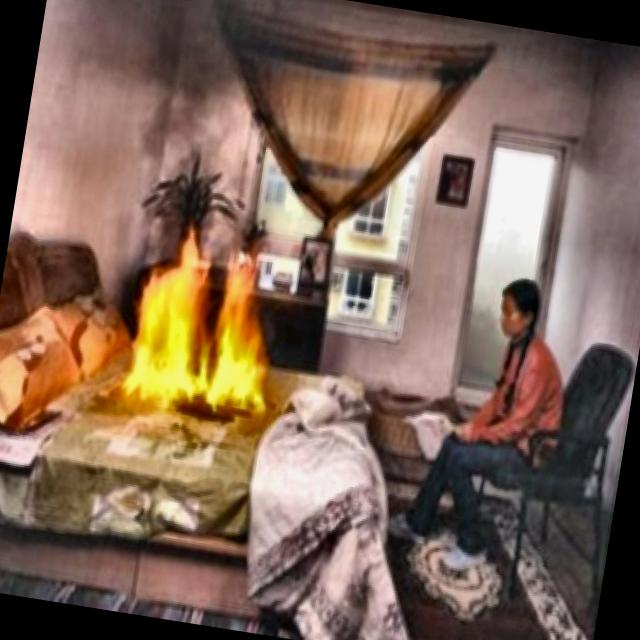fire: (101, 196, 292, 448)
